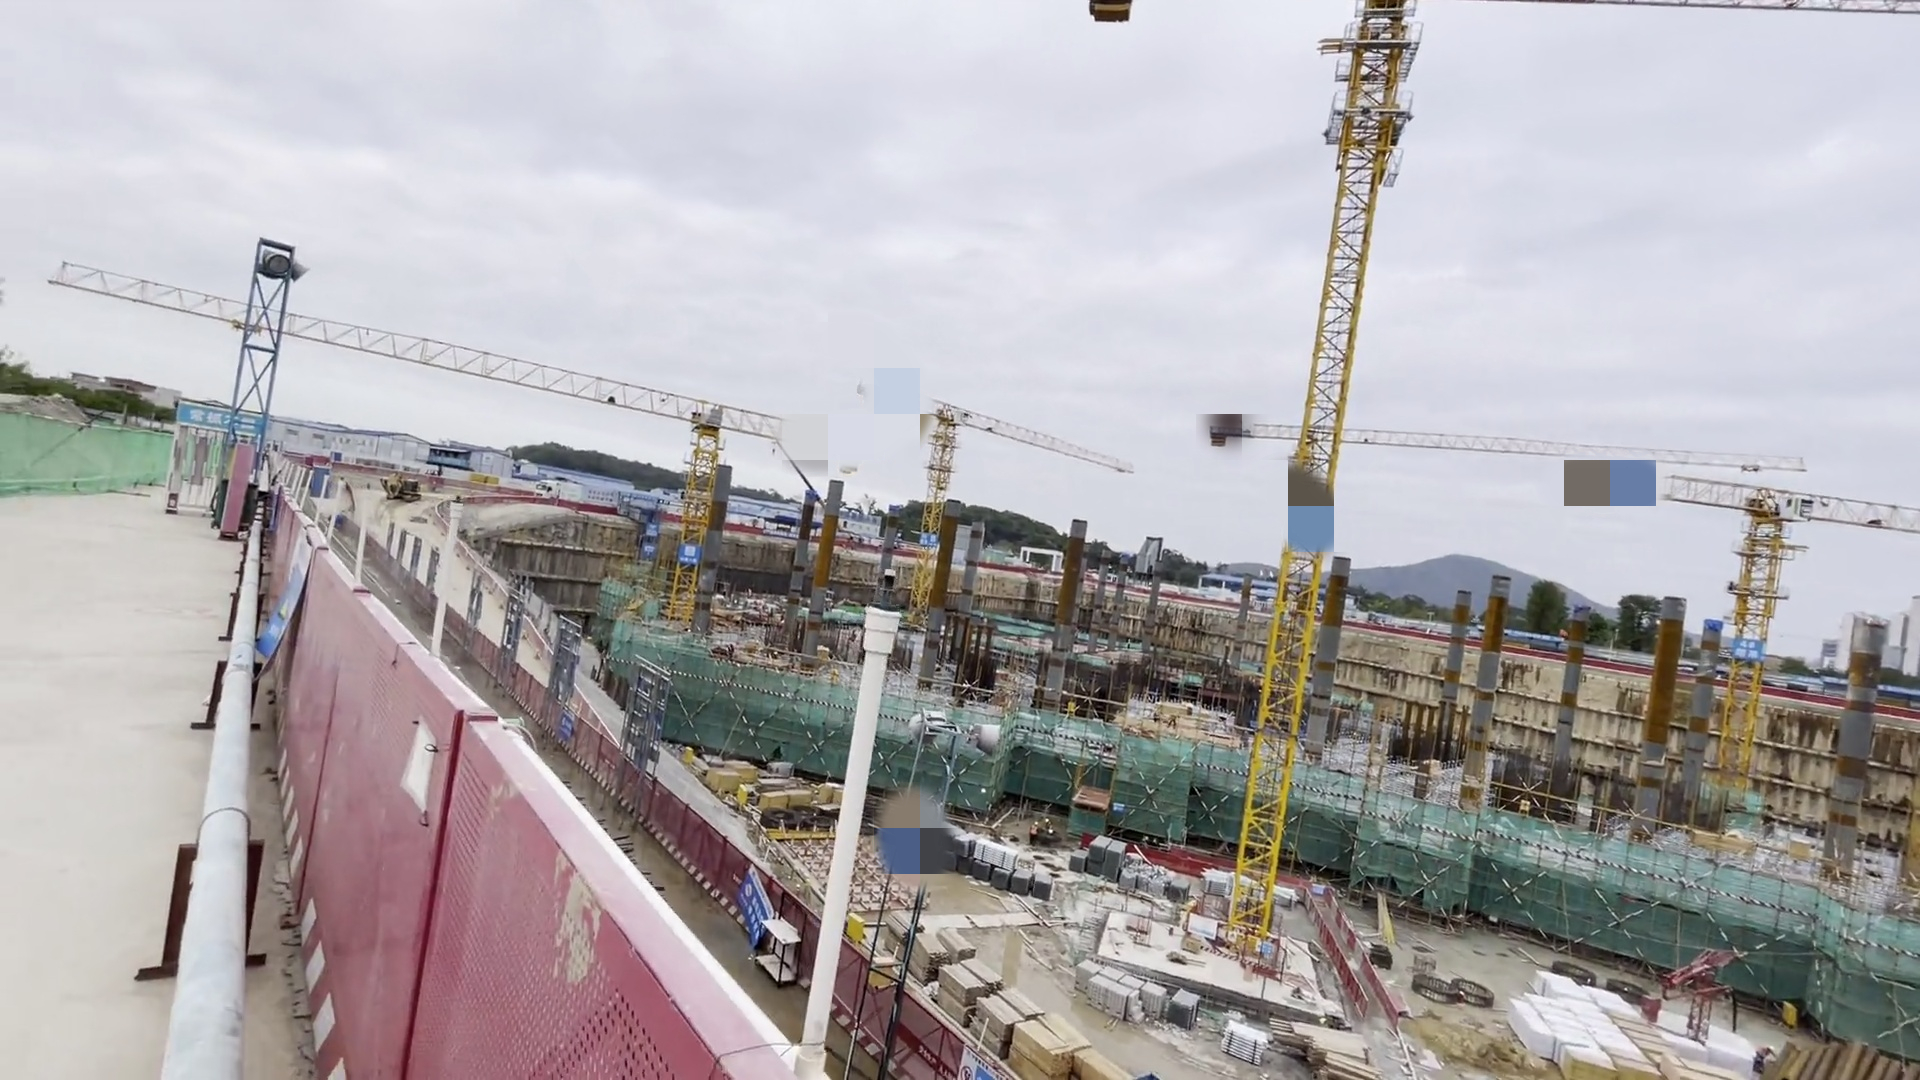brick: (1083, 951, 1224, 1038)
fence: (108, 430, 804, 1065), (1263, 843, 1429, 1080)
scaffold: (963, 828, 1058, 898), (1203, 1007, 1295, 1065), (1065, 832, 1134, 890)
slogan: (240, 551, 318, 658), (166, 404, 281, 446), (728, 851, 775, 952), (641, 512, 669, 564), (676, 543, 709, 570)
wood: (1273, 994, 1396, 1080), (1047, 1013, 1135, 1080), (1005, 1027, 1072, 1077), (882, 905, 926, 971), (971, 978, 1006, 1059), (942, 965, 978, 1033), (911, 928, 951, 990), (992, 984, 1054, 1017), (939, 923, 978, 968), (972, 957, 1004, 1004)
